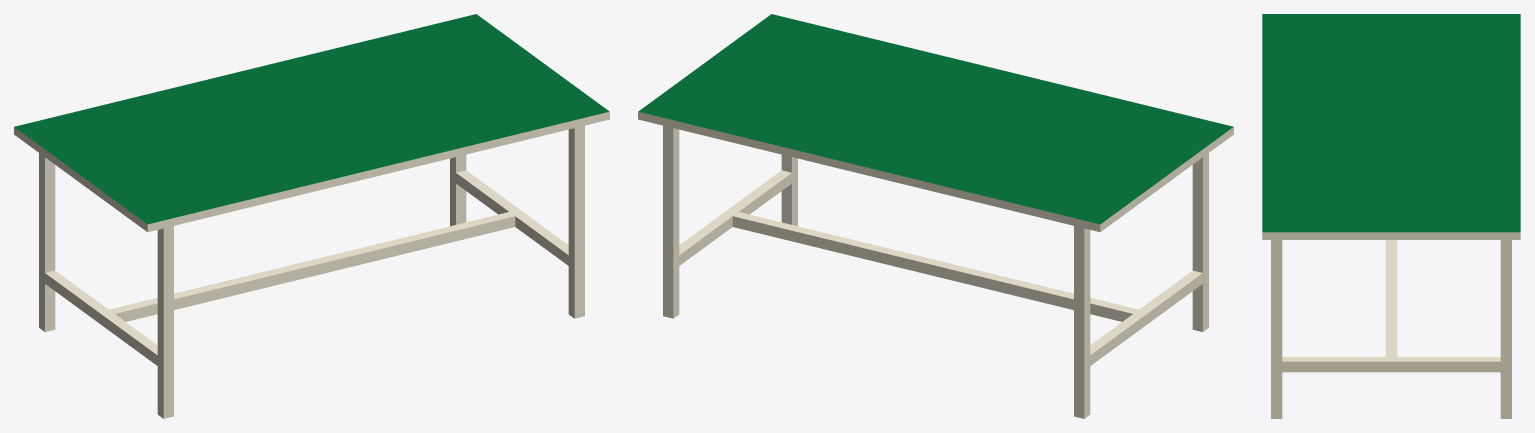
Rendered from sagyoudai_blend.dae.
3 renders of one model, left to right at view 1: azimuth 30°, elevation 25°; view 2: azimuth 150°, elevation 25°; view 3: azimuth 270°, elevation 25°, orthographic. The views are drawn at different scales.
Visible parts, largest first — view 1: mat1_001, mat2_001; view 2: mat1_001, mat2_001; view 3: mat1_001, mat2_001.
Boxes of the visible parts, x1,y1,x2,y2 form: mat1_001: (14, 14, 609, 232); mat2_001: (39, 125, 584, 418); mat1_001: (638, 14, 1233, 232); mat2_001: (663, 125, 1208, 418); mat1_001: (1262, 14, 1520, 239); mat2_001: (1271, 240, 1511, 418).
Bounding box in the file's own units: 1.8 × 0.9 × 0.7546.
